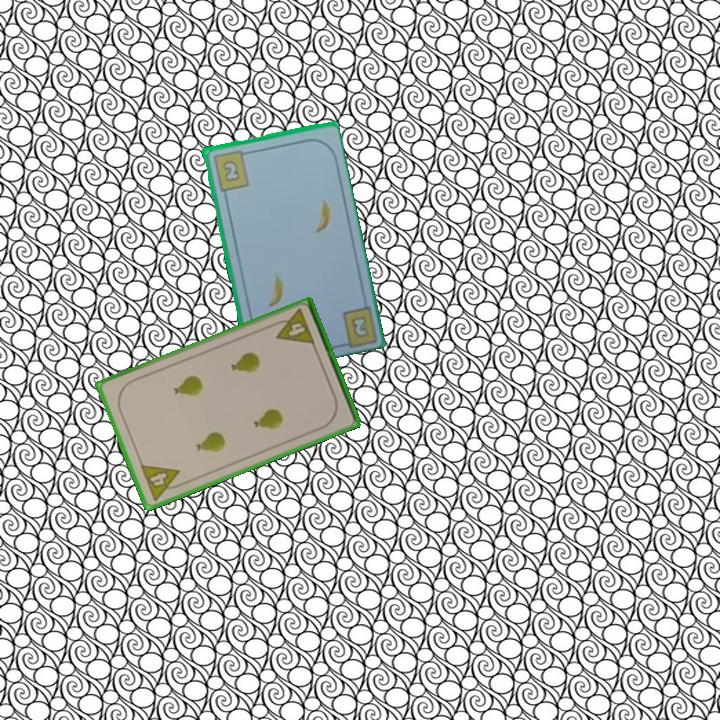2b: (209, 146, 252, 193), (347, 312, 372, 341)
4p: (137, 461, 187, 504), (269, 305, 318, 348)
